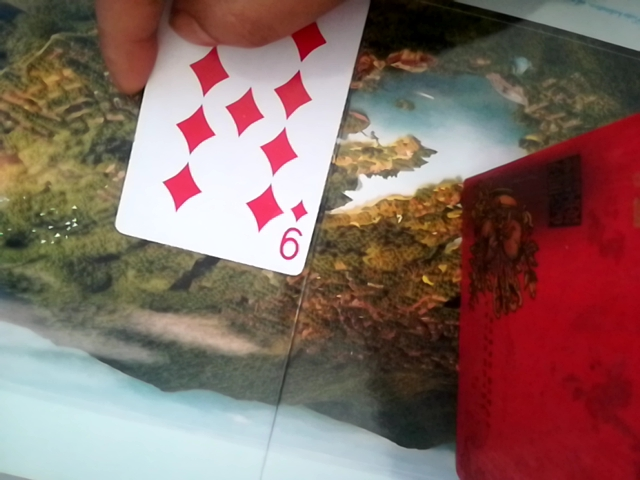fk 9: (107, 13, 368, 280)
